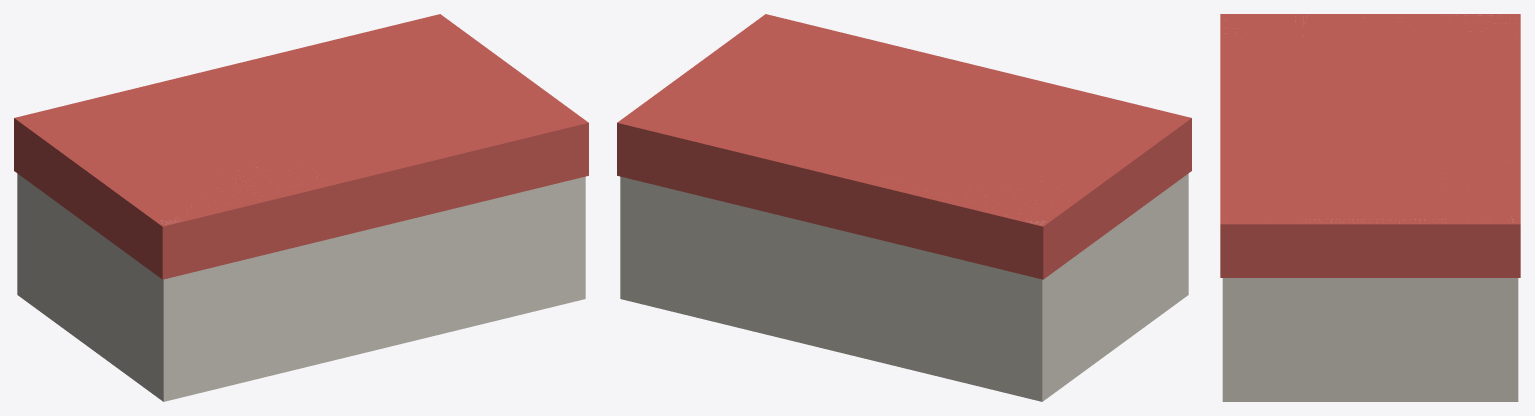
The model's file is pregos.glb.
3 renders of one model, left to right at view 1: azimuth 30°, elevation 25°; view 2: azimuth 150°, elevation 25°; view 3: azimuth 270°, elevation 25°, orthographic.
Parts seen in each view (by area): view 1: pregos; view 2: pregos; view 3: pregos.
Boxes of the visible parts, x1=… form: pregos: x1=14, y1=14, x2=588, y2=401; pregos: x1=617, y1=14, x2=1191, y2=401; pregos: x1=1220, y1=14, x2=1520, y2=401.
Size of the model in its own units: 0.101 by 0.04 by 0.061.
